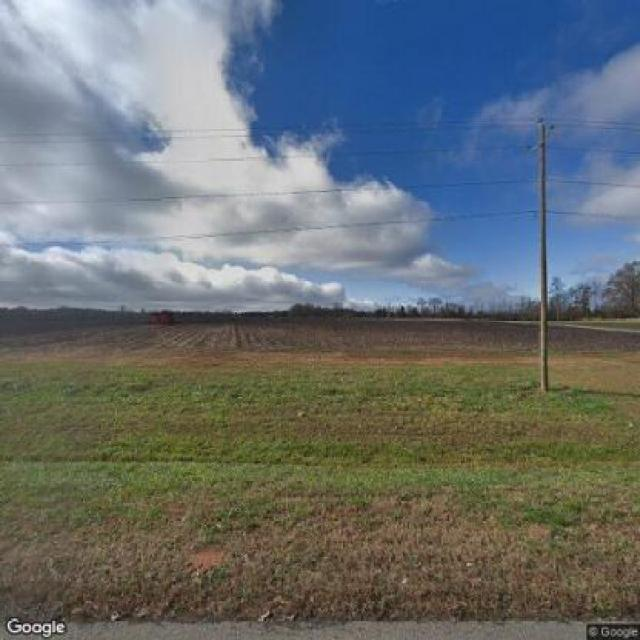pole: (511, 106, 572, 386)
